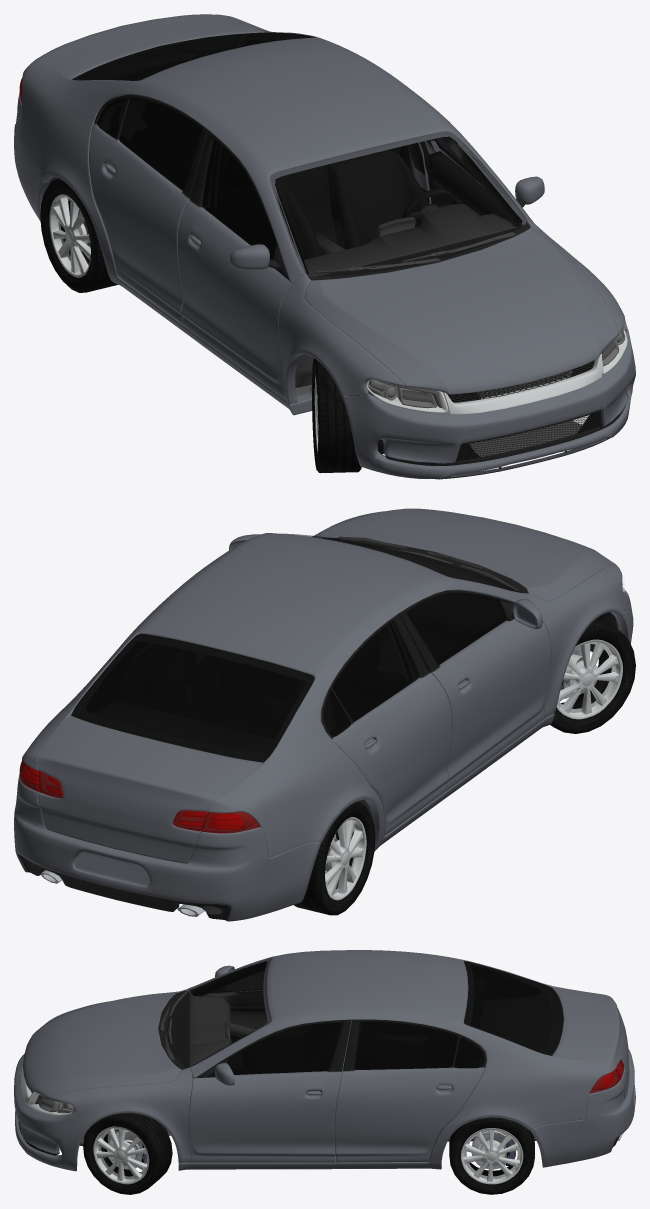
Rendered from grand-sedan-lod0.glb.
3 renders of one model, top to bottom at view 1: azimuth 30°, elevation 25°; view 2: azimuth 150°, elevation 25°; view 3: azimuth 270°, elevation 25°, orthographic. The views are drawn at different scales.
Visible parts, largest first — view 1: sedan-unibody_65, hood_60, windshield_102, bumper-front_8, door-front-r_17, door-rear-r_23, fender-front-r_33, front-seat-backrest_39, dashboard_13, trunk_99, door-rear-window-glass-r_27, door-front-window-glass-r_19 (+21 smaller); view 2: sedan-unibody_65, glass-rear_42, trunk_99, bumper-rear_10, door-front-r_17, door-rear-r_23, hood_60, fender-front-r_33, door-rear-window-glass-r_27, door-front-window-glass-r_19, generic-wheel.001_126, generic-tire-low.001_125 (+8 smaller); view 3: sedan-unibody_65, door-front-l_16, door-rear-l_22, hood_60, windshield_102, glass-rear_42, fender-front-l_32, bumper-rear_10, trunk_99, door-rear-window-glass-l_26, door-front-window-glass-l_18, bumper-front_8 (+14 smaller).
Part boxes in pixels (bbox=[...]): sedan-unibody_65: bbox=[19, 14, 533, 415]; hood_60: bbox=[304, 227, 618, 394]; windshield_102: bbox=[270, 132, 527, 276]; bumper-front_8: bbox=[342, 328, 635, 479]; door-front-r_17: bbox=[177, 131, 291, 396]; door-rear-r_23: bbox=[89, 94, 208, 323]; fender-front-r_33: bbox=[278, 273, 404, 404]; front-seat-backrest_39: bbox=[328, 149, 428, 249]; dashboard_13: bbox=[304, 204, 520, 276]; trunk_99: bbox=[39, 14, 264, 79]; door-rear-window-glass-r_27: bbox=[119, 98, 201, 190]; door-front-window-glass-r_19: bbox=[202, 139, 276, 259]; sedan-unibody_65: bbox=[20, 533, 554, 857]; glass-rear_42: bbox=[71, 633, 314, 762]; trunk_99: bbox=[37, 715, 263, 863]; bumper-rear_10: bbox=[14, 774, 320, 921]; door-front-r_17: bbox=[398, 590, 551, 790]; door-rear-r_23: bbox=[321, 614, 452, 835]; hood_60: bbox=[312, 508, 615, 601]; fender-front-r_33: bbox=[525, 564, 625, 718]; door-rear-window-glass-r_27: bbox=[333, 621, 419, 721]; door-front-window-glass-r_19: bbox=[407, 593, 505, 664]; generic-wheel.001_126: bbox=[556, 639, 622, 719]; generic-tire-low.001_125: bbox=[550, 617, 635, 733]; sedan-unibody_65: bbox=[178, 950, 621, 1170]; door-front-l_16: bbox=[188, 1019, 351, 1162]; door-rear-l_22: bbox=[334, 1019, 486, 1162]; hood_60: bbox=[23, 991, 181, 1098]; windshield_102: bbox=[167, 958, 270, 1068]; glass-rear_42: bbox=[464, 961, 563, 1055]; fender-front-l_32: bbox=[49, 1067, 192, 1163]; bumper-rear_10: bbox=[530, 1049, 635, 1167]; trunk_99: bbox=[552, 987, 629, 1098]; door-rear-window-glass-l_26: bbox=[354, 1021, 457, 1069]; door-front-window-glass-l_18: bbox=[227, 1023, 342, 1074]; bumper-front_8: bbox=[14, 1054, 89, 1171].
Bounding box in the file's own units: 2.07 × 1.44 × 4.78.
21 materials, 7 textured.
